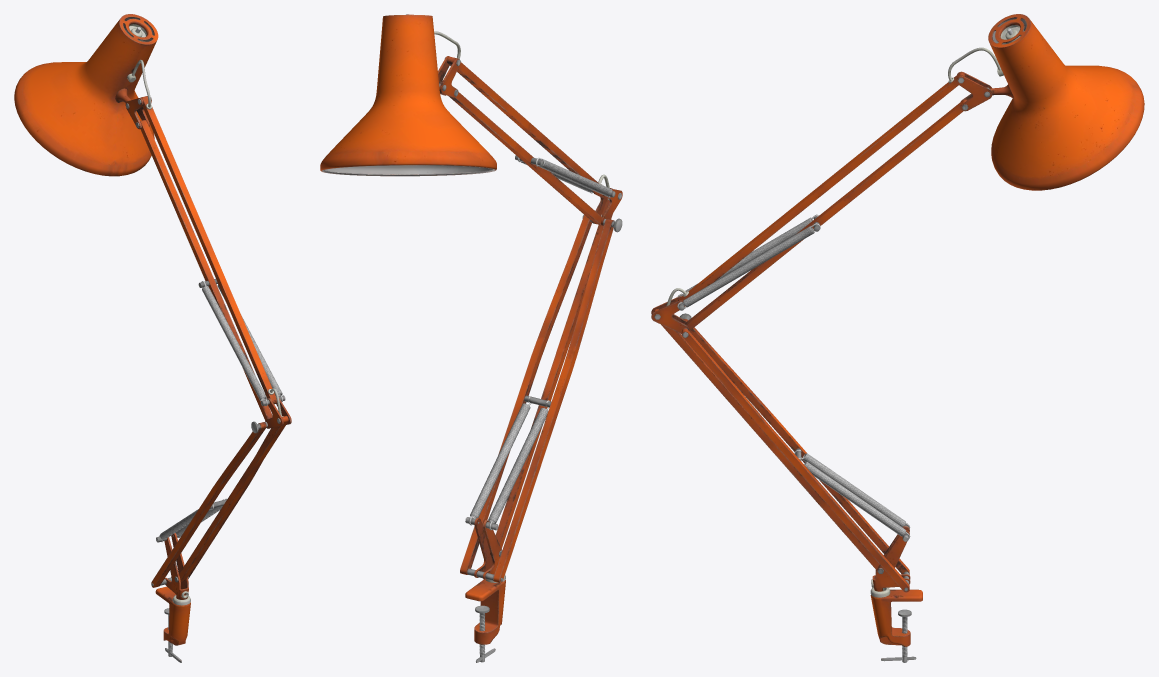
The model's file is desk_lamp_arm_01.glb.
3 views of the same model, side by side, from view 1: azimuth 30°, elevation 25°; view 2: azimuth 150°, elevation 25°; view 3: azimuth 270°, elevation 25° (orthographic). The views are drawn at different scales.
Parts seen in each view (by area): view 1: desk_lamp_arm_01; view 2: desk_lamp_arm_01; view 3: desk_lamp_arm_01.
Boxes of the visible parts, x1,y1,x2,y2 form: desk_lamp_arm_01: [14, 14, 291, 662]; desk_lamp_arm_01: [320, 14, 622, 662]; desk_lamp_arm_01: [651, 14, 1144, 662].
Size of the model in its own units: 0.2017 by 0.8926 by 0.6139.
Materials: 2 (2 with a texture image).
